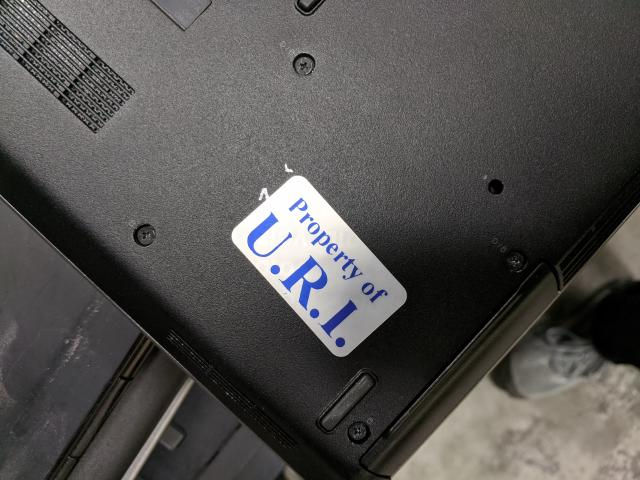CRS: (131, 222, 160, 248), (293, 52, 317, 78), (346, 420, 368, 444), (504, 249, 526, 272)
